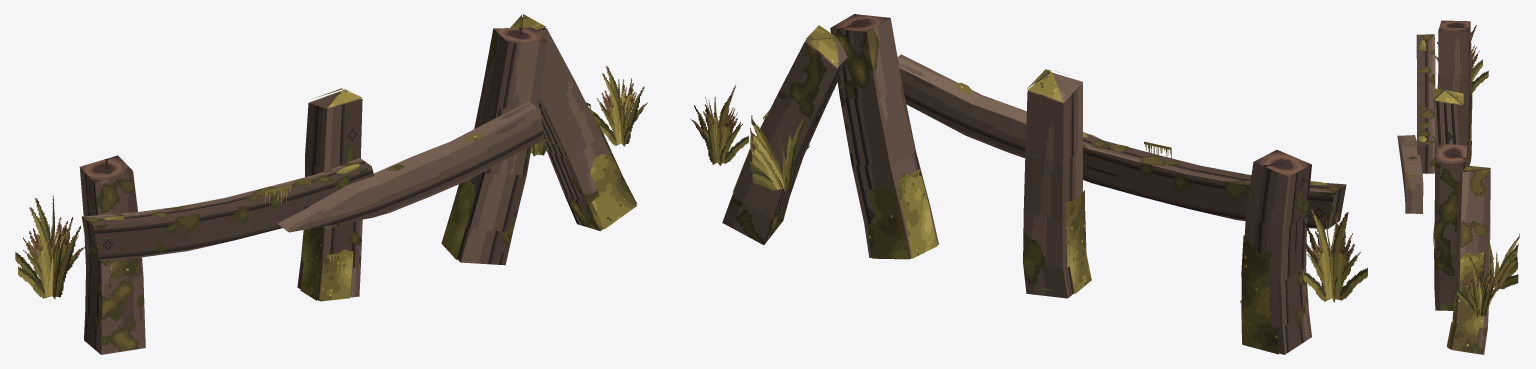
File: SM_SW19_WaterFenceBroken.fbx
3 views of the same model, side by side, from view 1: azimuth 30°, elevation 25°; view 2: azimuth 150°, elevation 25°; view 3: azimuth 270°, elevation 25° (orthographic). The views are drawn at different scales.
Parts seen in each view (by area): view 1: SW19c_Planks, SW19c_Moss, SW19c_Plants, SW19c_Props; view 2: SW19c_Planks, SW19c_Moss, SW19c_Plants, SW19c_Props; view 3: SW19c_Planks, SW19c_Moss, SW19c_Plants, SW19c_Props.
Part boxes in pixels (<box>): SW19c_Planks: <box>79,17,610,354</box>; SW19c_Moss: <box>103,14,636,301</box>; SW19c_Plants: <box>15,66,647,299</box>; SW19c_Props: <box>80,27,547,182</box>; SW19c_Planks: <box>722,18,1346,354</box>; SW19c_Moss: <box>732,25,1326,354</box>; SW19c_Plants: <box>690,85,1367,302</box>; SW19c_Props: <box>831,14,1311,176</box>; SW19c_Planks: <box>1397,21,1490,354</box>; SW19c_Moss: <box>1405,40,1490,353</box>; SW19c_Plants: <box>1435,25,1519,316</box>; SW19c_Props: <box>1435,20,1470,164</box>.
Size of the model in its own units: 3.92 by 1.31 by 0.8527.
